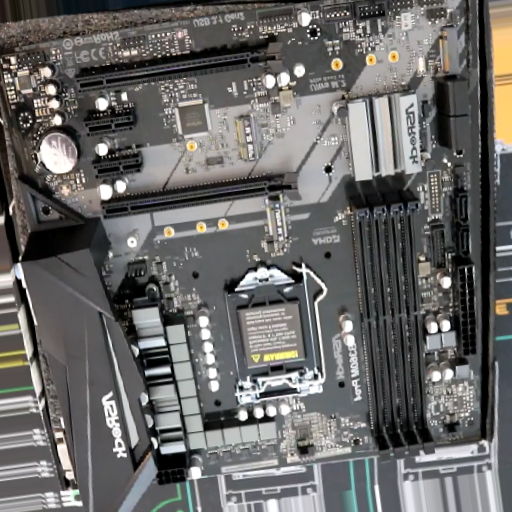CPU: (225, 263, 322, 406)
GPU: (77, 41, 285, 93), (101, 171, 303, 220)
MOTHERBOARD: (1, 1, 484, 495)
RAM: (349, 193, 434, 460)
SSD: (236, 116, 259, 162), (266, 202, 288, 248), (440, 28, 461, 75)
